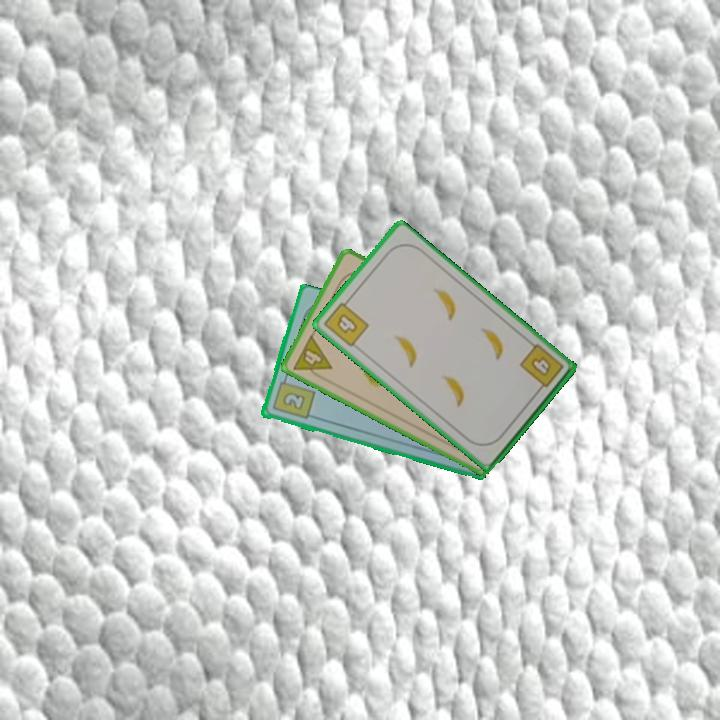2b: (269, 373, 317, 422)
4b: (320, 294, 372, 350), (516, 340, 566, 396)
4p: (289, 331, 335, 384)
